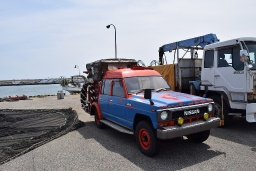car: (78, 57, 218, 153)
truck: (153, 32, 254, 120)
